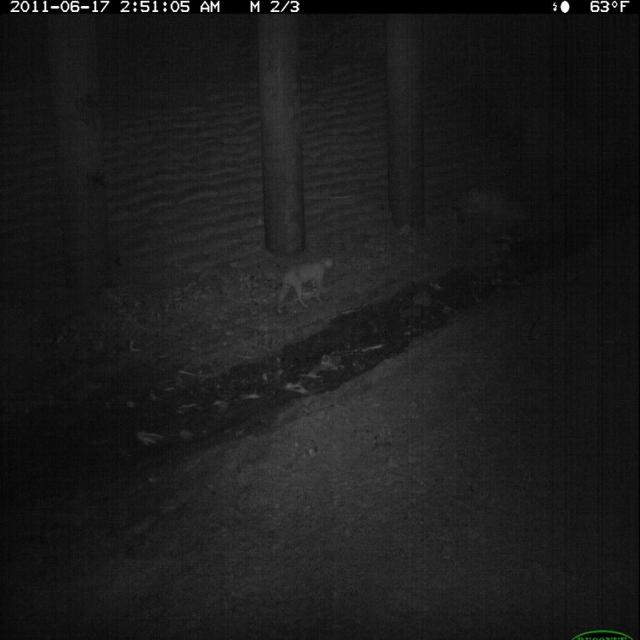bobcat: (272, 249, 339, 318)
